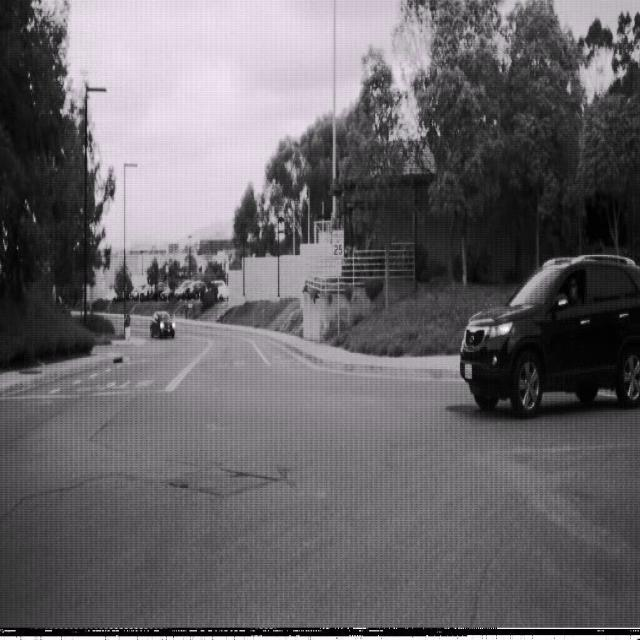speedLimit25: (330, 228, 344, 260)
